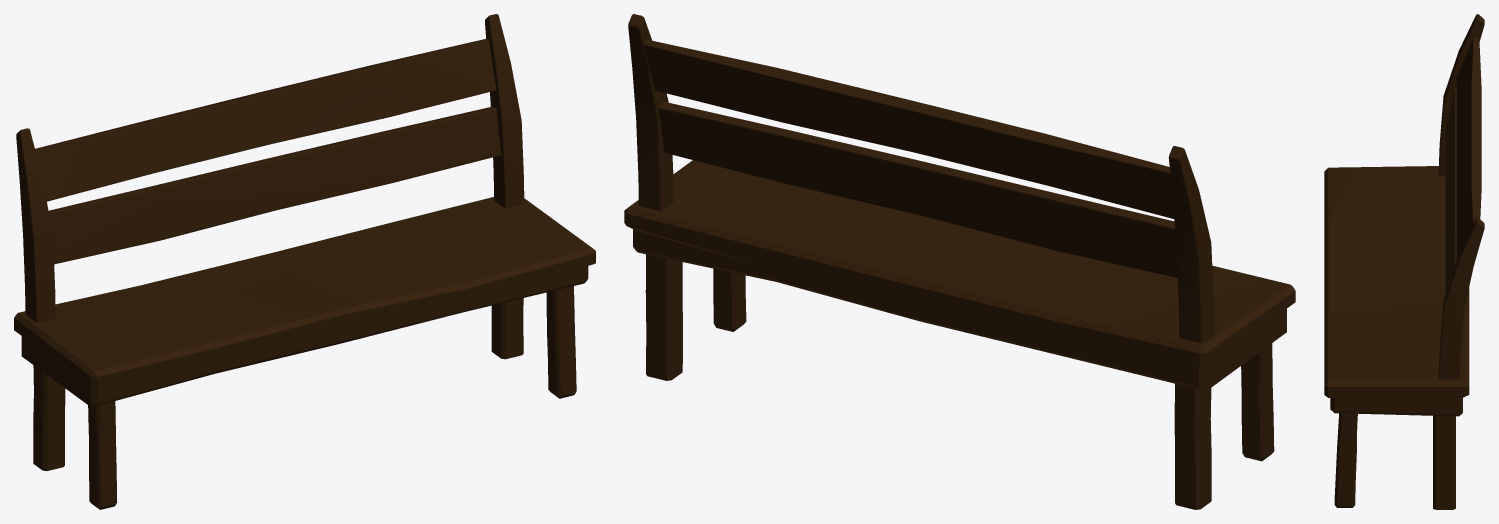
The model's file is bench.glb.
3 renders of one model, left to right at view 1: azimuth 30°, elevation 25°; view 2: azimuth 150°, elevation 25°; view 3: azimuth 270°, elevation 25°, orthographic. The views are drawn at different scales.
Visible parts, largest first — view 1: bench_tri; view 2: bench_tri; view 3: bench_tri.
Part boxes in pixels (bbox=[...]): bench_tri: bbox=[14, 14, 595, 509]; bench_tri: bbox=[624, 14, 1295, 509]; bench_tri: bbox=[1324, 14, 1484, 509].
Size of the model in its own units: 2.06 by 1.26 by 0.6344.
